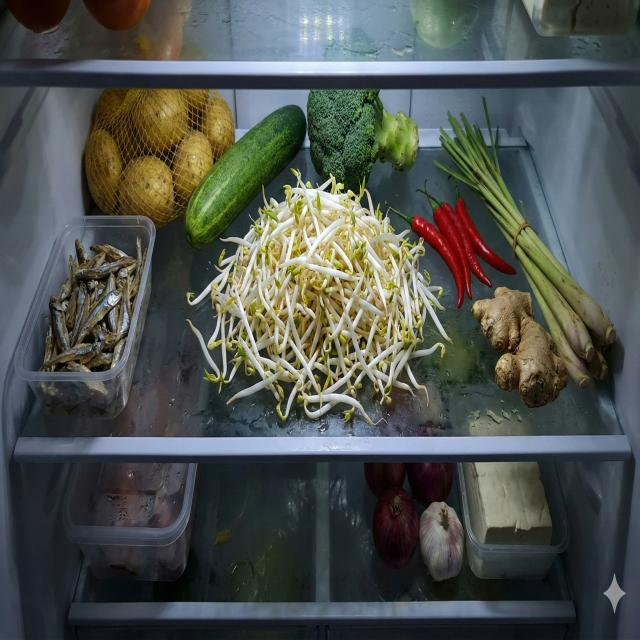anchovies: (39, 236, 148, 422)
bean_sprouts: (187, 166, 454, 428)
brocolli: (308, 28, 420, 196)
chili: (384, 173, 518, 311)
cucumber: (184, 105, 307, 250)
garlic: (419, 501, 465, 582)
ginger: (472, 286, 568, 408)
lemongrass: (434, 95, 616, 390)
onion: (363, 461, 454, 570)
potato: (85, 88, 236, 230)
tofu: (462, 460, 552, 547)
